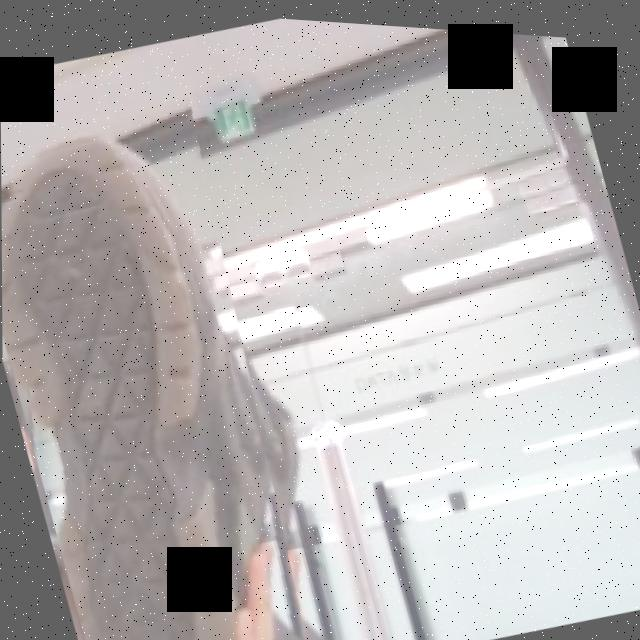shoe: (0, 83, 343, 640)
